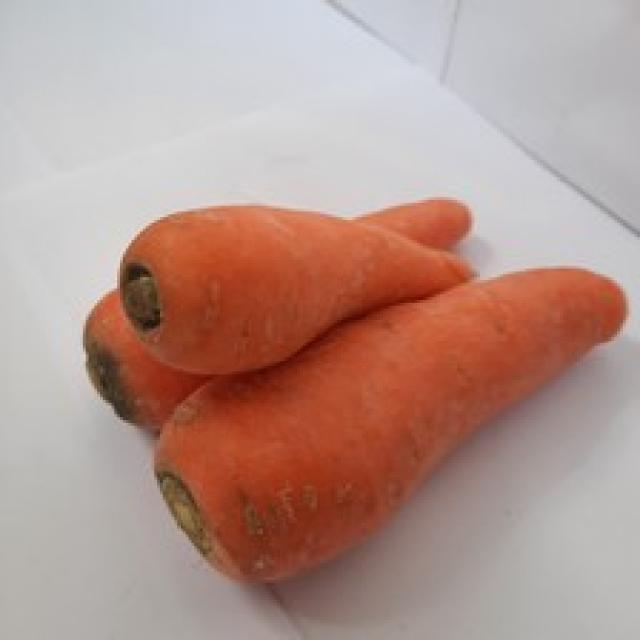Fresh_Carrot: (220, 281, 566, 517), (159, 199, 452, 336)
